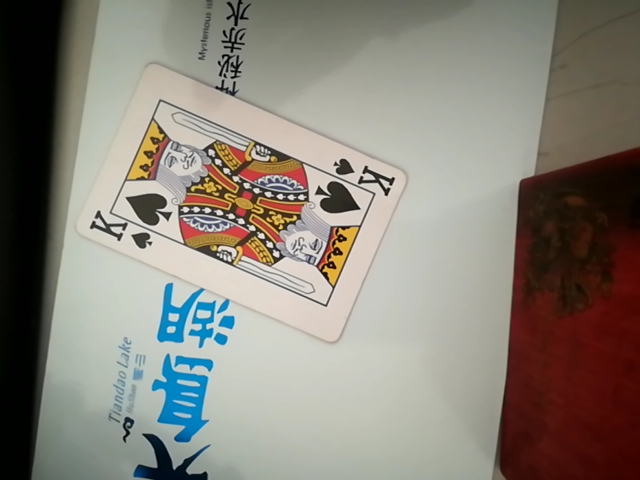ht k: (83, 64, 401, 343)
